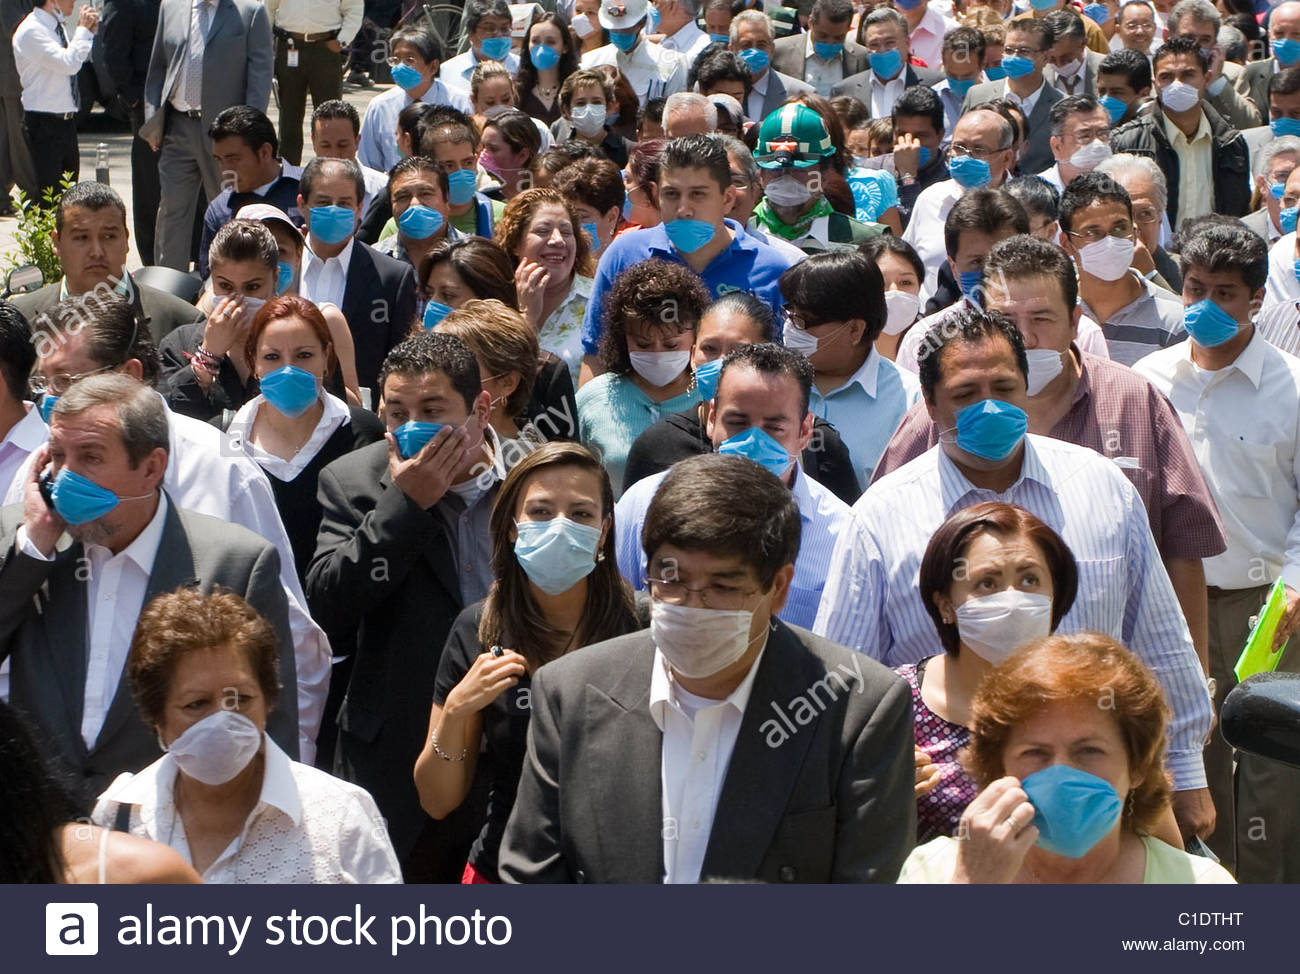mask_weared_incorrect: (974, 266, 1087, 391), (649, 161, 738, 253)
with_mask: (991, 710, 1137, 842), (646, 542, 777, 684), (29, 425, 170, 535), (149, 661, 270, 774), (925, 345, 1034, 466), (511, 471, 607, 590), (382, 374, 488, 480), (715, 374, 806, 493), (250, 311, 333, 423), (1179, 264, 1260, 348), (295, 171, 364, 246), (1066, 210, 1136, 280), (622, 317, 692, 384)
without_mask: (506, 207, 581, 283), (63, 200, 126, 291)
